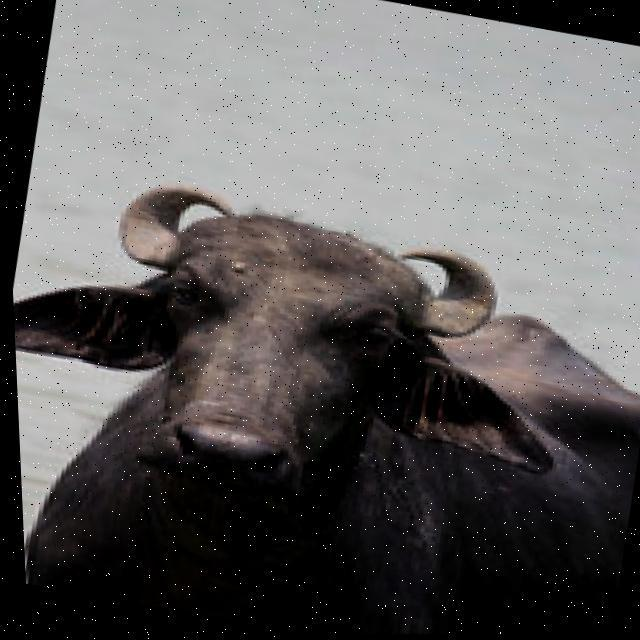Buffalo: (7, 150, 640, 640)
